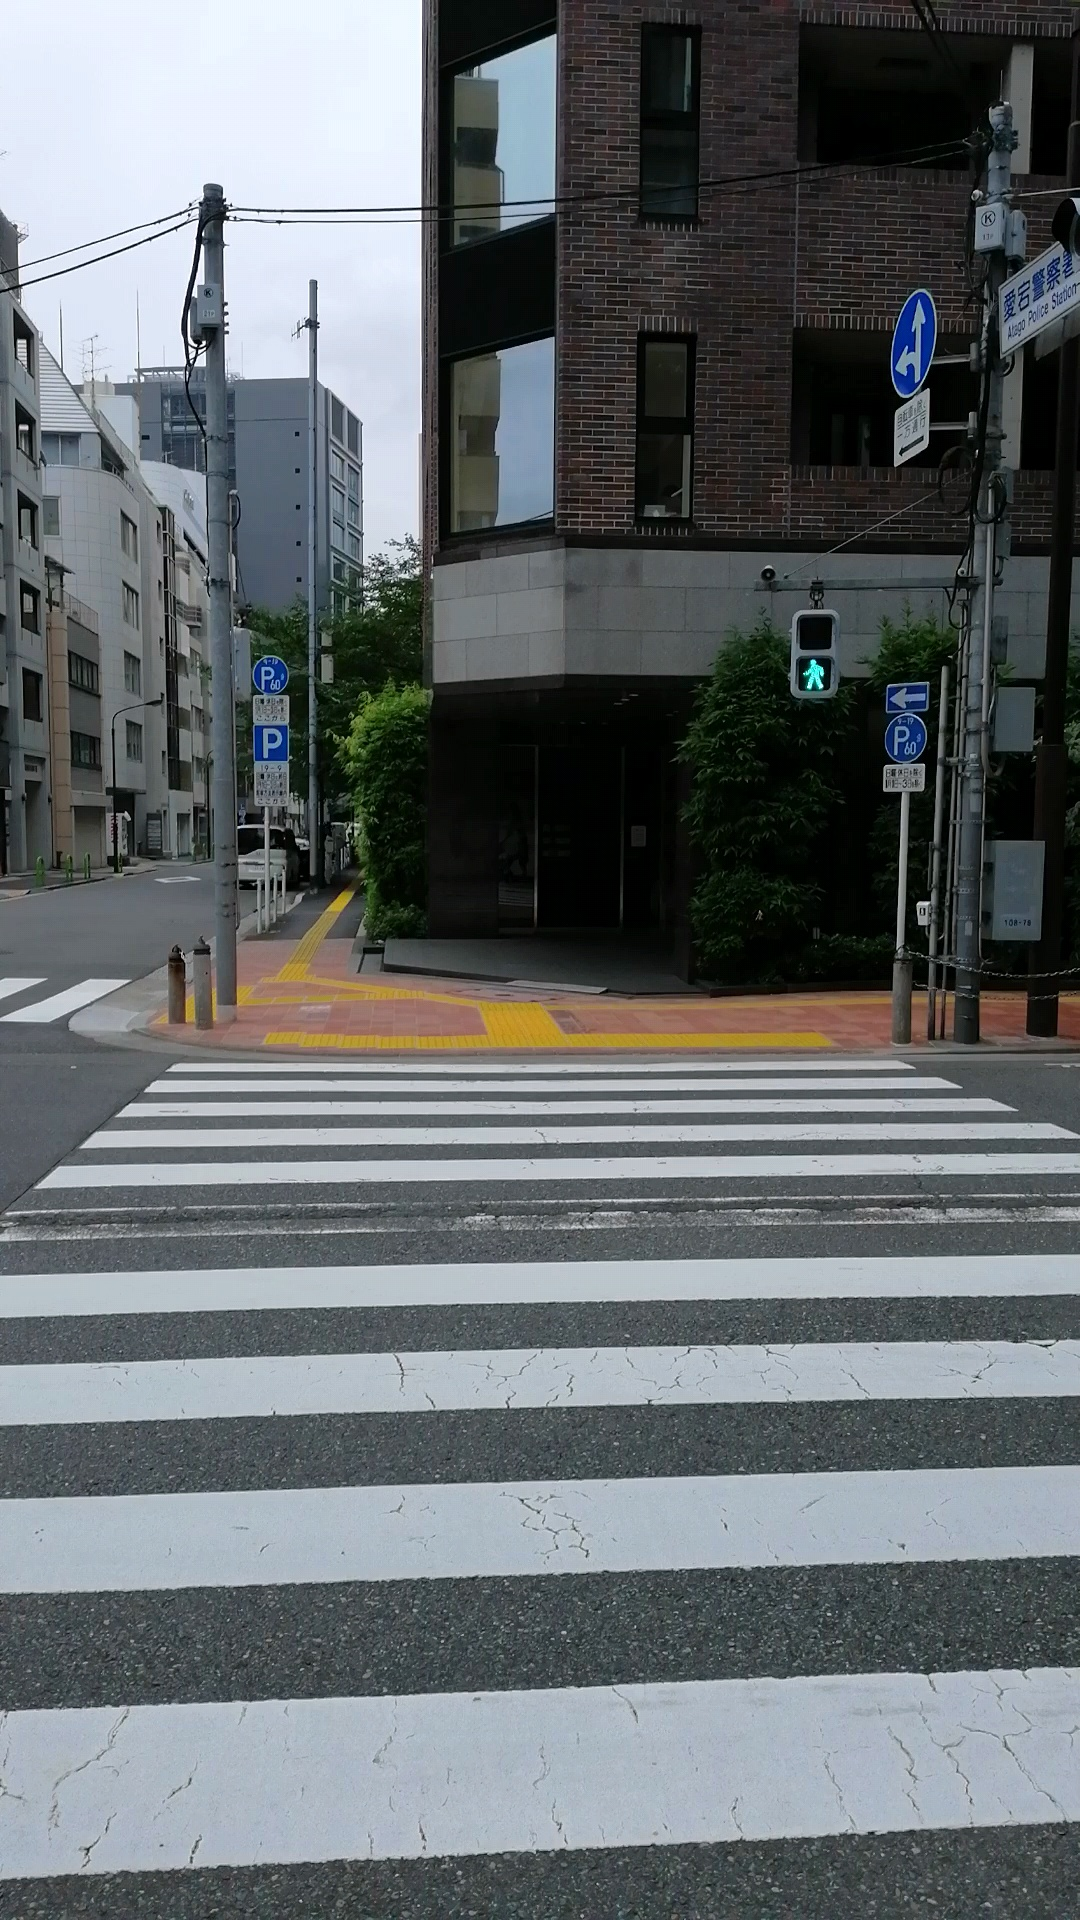green: (791, 604, 837, 700)
